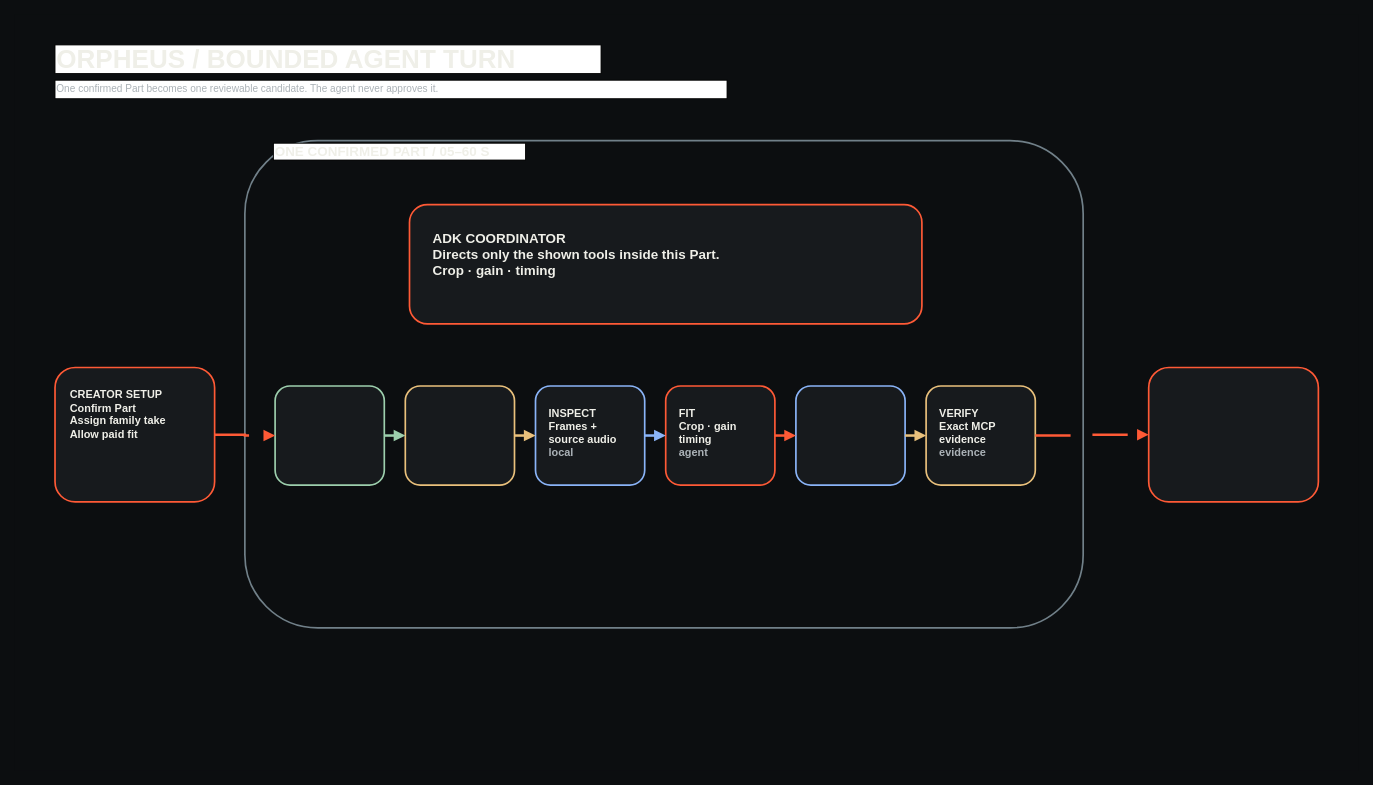
Some shapes in this 1373 by 785 pixel diagram are drawn without their labels. Here are the shapes that lost their labels. From the top down, the centre of each, then its label:
point 329,435: BASELINE Deterministic same Part local
point 459,435: HISTORY Grafana MCP read-only evidence
point 850,435: MEASURE Peak · loudness timing local
point 1233,434: CREATOR VERDICT Audition candidate Approve or reject
